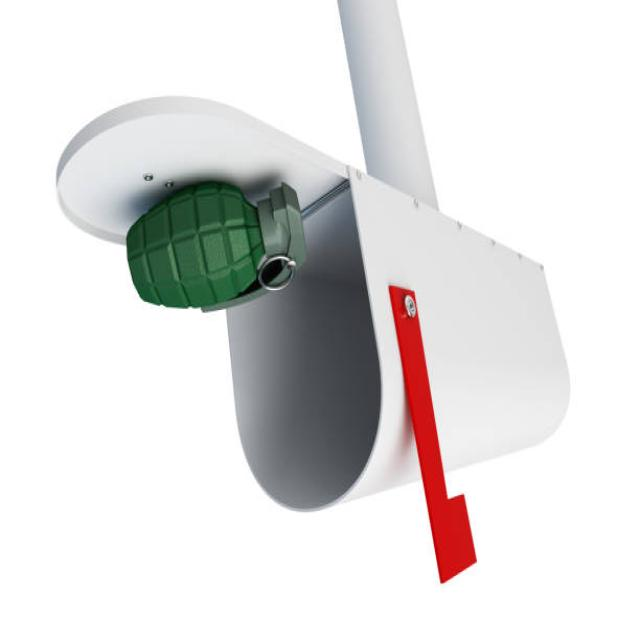grenade: (126, 171, 309, 320)
